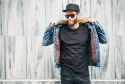male: (60, 2, 80, 29)
